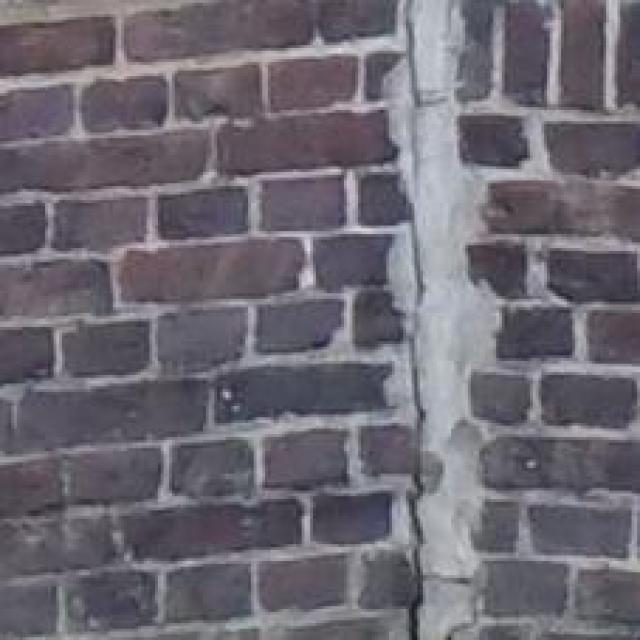Crack: (319, 0, 518, 640)
